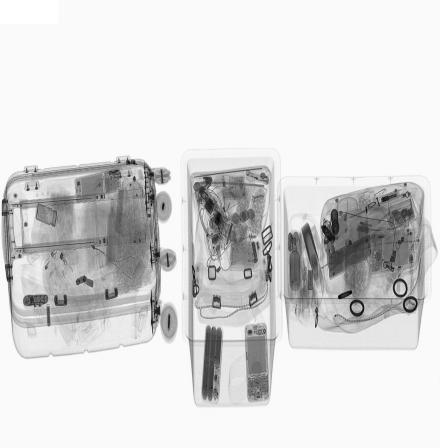Lighter: (245, 168, 270, 187)
